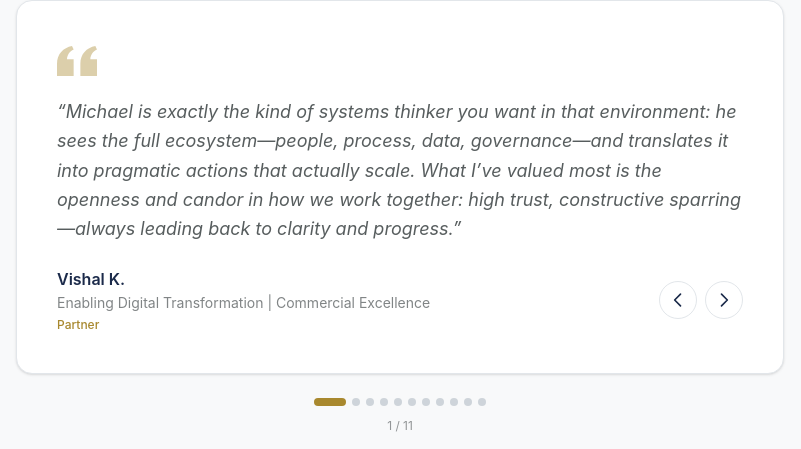
Test: RecommendationsCarousel › navigates to previous recommendation on button click
The width and height of the screenshot is (801, 449).
Step 1. Click the button named "Previous recommendation" → (678, 300), box [659,281,697,319]
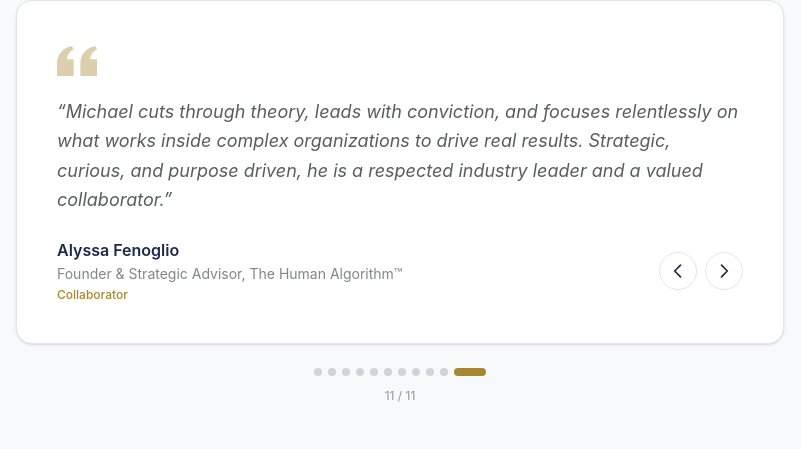
Result: the text "Alyssa Fenoglio" is shown at [57,240,179,260]
Result: the text "11 / 11" is shown at [385,388,415,403]
